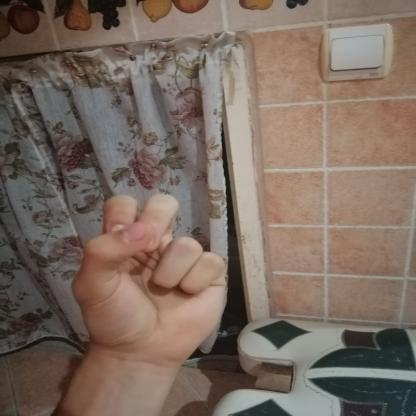QAAF: (47, 182, 249, 374)
